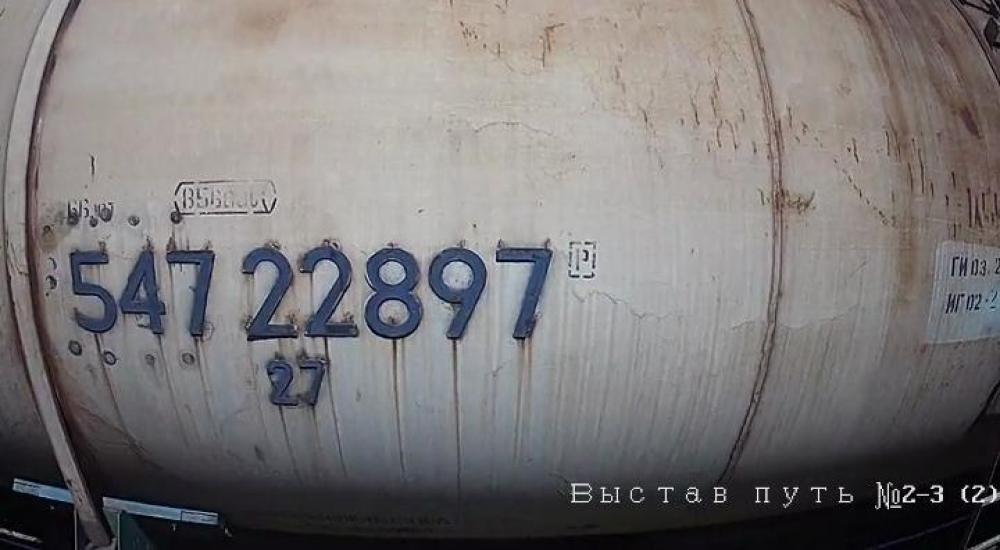Wagon-number: (64, 243, 556, 347)
